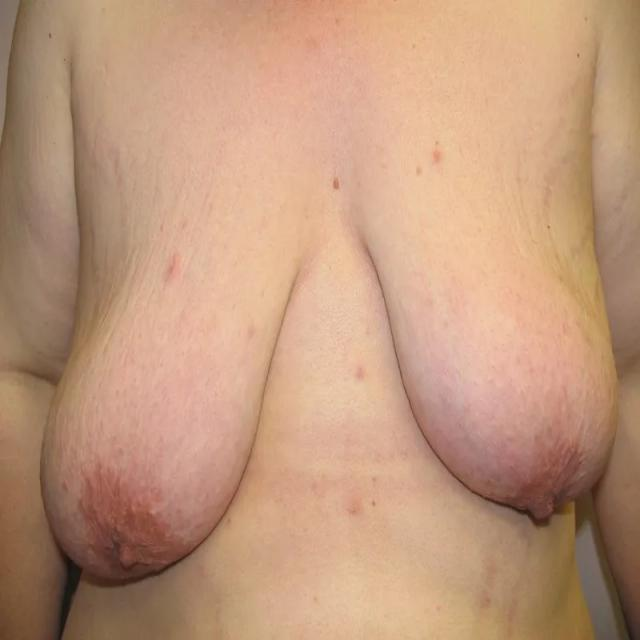Seno ileso: (31, 168, 316, 608), (348, 124, 630, 552)
